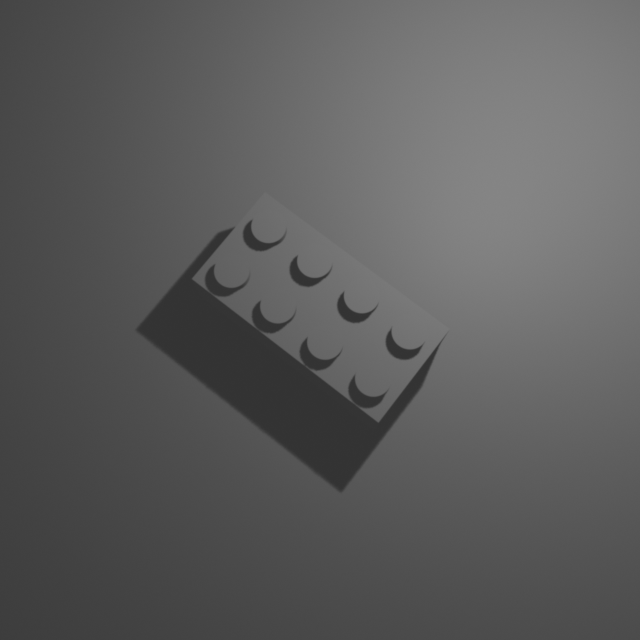lego_2x4: (190, 188, 452, 431)
